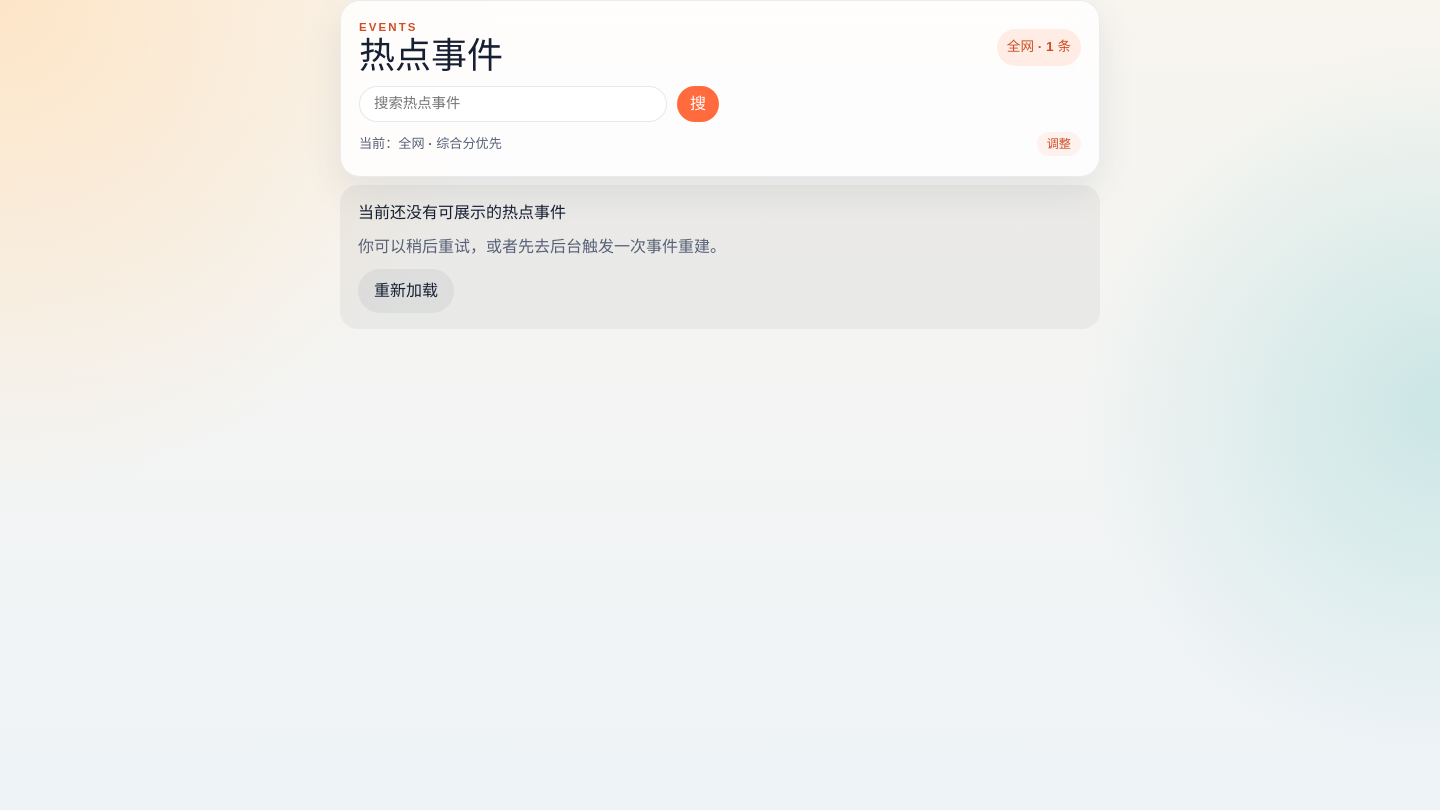
Test: HomeView › refetches the feed when changing sort mode
Click the button with test id "home-filter-toggle". click: (430, 144)
box: [359, 130, 1081, 158]
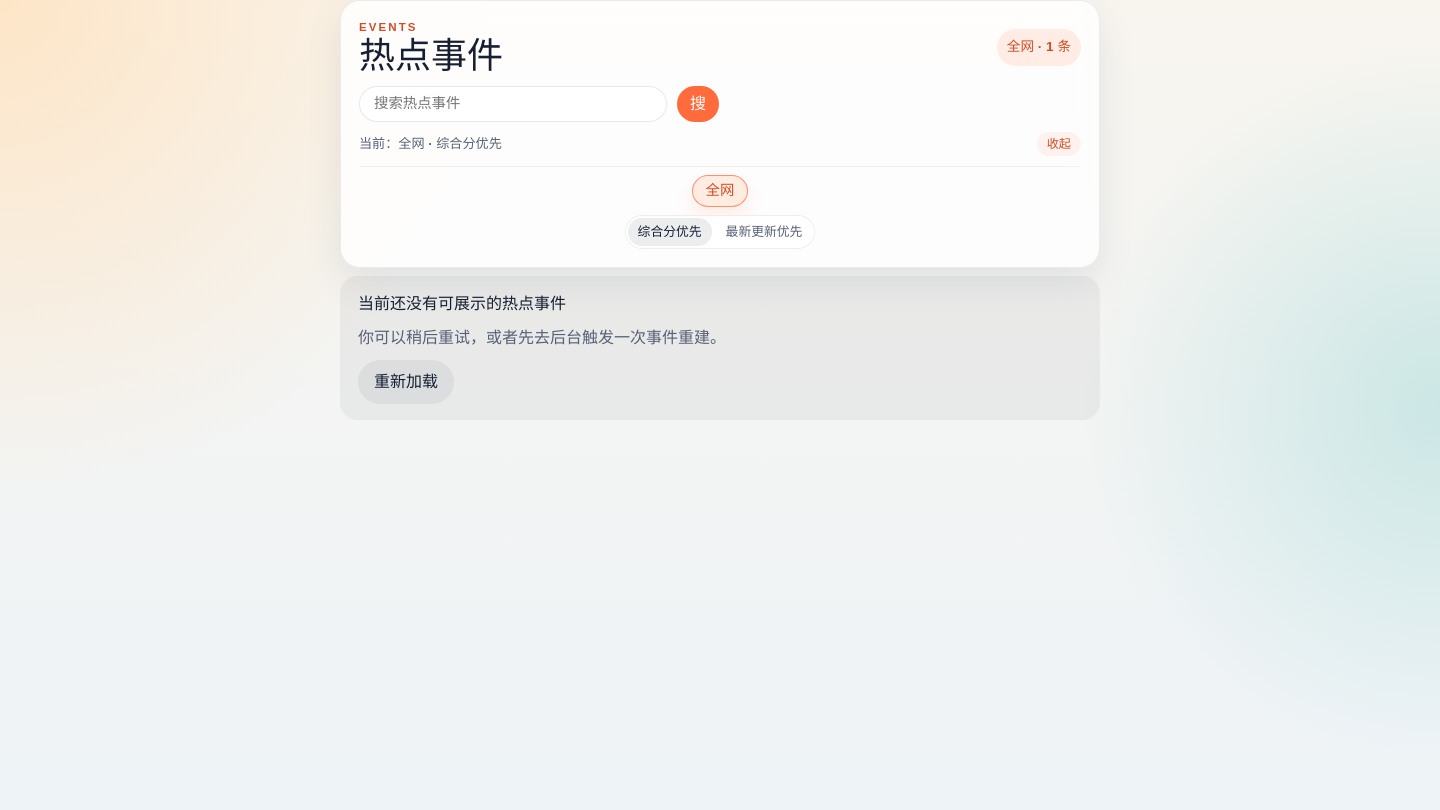
Check: the element with test id "home-filter-panel" is shown, box [359, 166, 1081, 249]
Click the button "最新更新优先". click: (764, 232)
box: [716, 218, 812, 246]
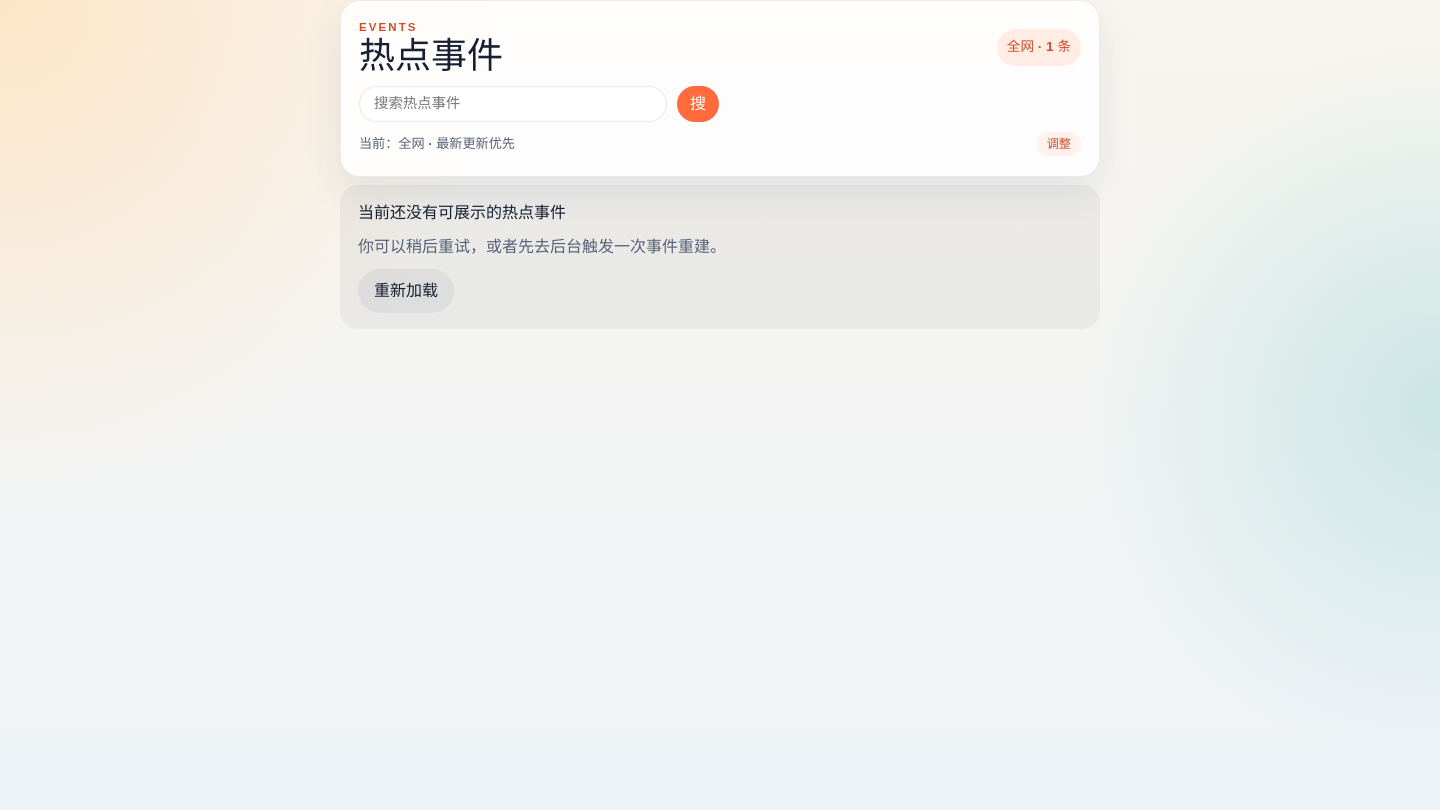
Check: the text "全网 · 最新更新优先" is shown, box [359, 136, 515, 151]
